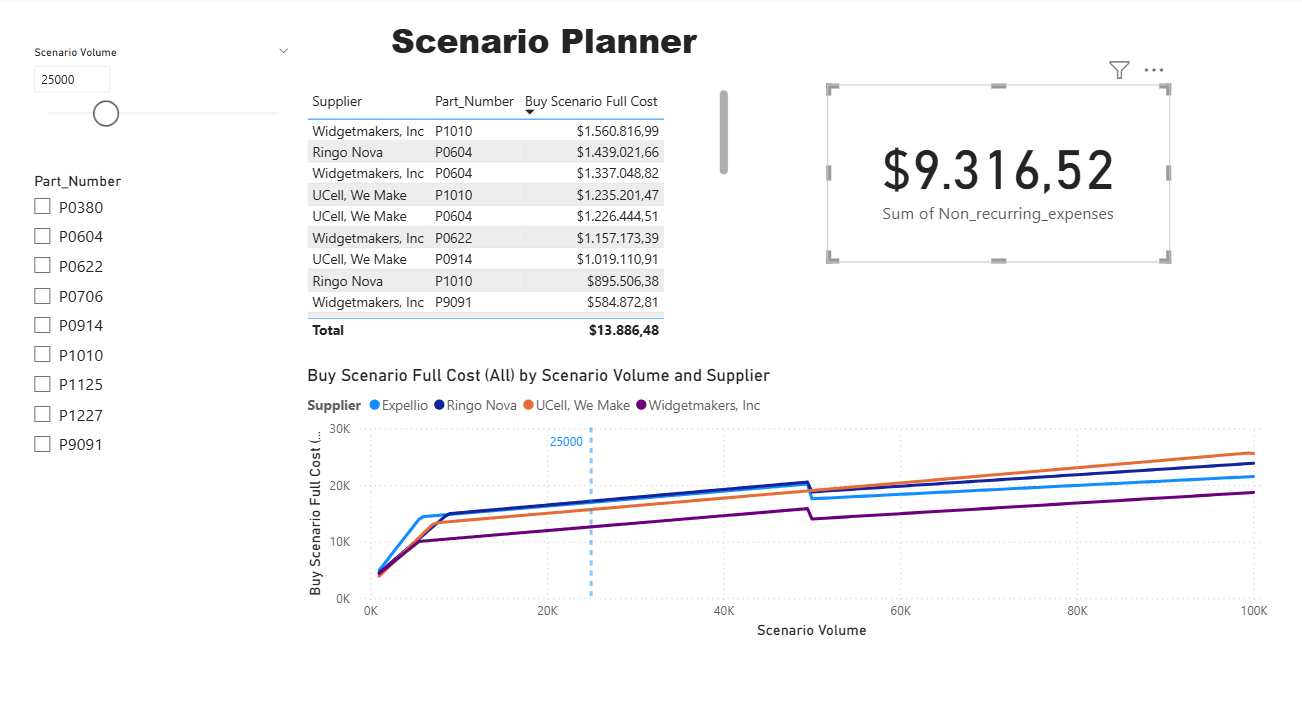

The page's visual inventory and layout, read from the dashboard file:
{"tool":"powerbi","page":{"name":"Scenario Analysis (Suppliers)","canvas":[1280,720],"ordinal":1},"visuals":[{"type":"slicer","fields":{"Values":["Scenario Volume.Scenario Volume"]},"box":[24.2,42.7,274.5,123.7],"z":0},{"type":"tableEx","fields":{"Values":["Quotes.Supplier","Quotes.Part_Number","Scenario Volume.Scenario Full Cost"]},"box":[298.7,166.4,375.5,173.5],"z":1000},{"type":"textbox","box":[381.2,14.2,339.9,56.9],"z":2000},{"type":"slicer","fields":{"Values":["Quotes.Part_Number"]},"box":[24.2,166.4,274.5,308.6],"z":3000},{"type":"card","fields":{"Values":["Sum(Quotes.Non_recurring_expenses)"]},"box":[674.1,147.9,334.2,173.5],"z":4000},{"type":"lineChart","fields":{"Category":["Scenario Volumes (All).Scenario Volume"],"Series":["Quotes.Supplier"],"Y":["Scenario Volumes (All).Scenario Full Cost (All)"]},"box":[299.1,359.5,949.8,272.4],"z":5000}]}

Visuals, with their boxes in screenshot pixels (x1, y1, x2, y2), scaled from the page's 1280x720 canvas onto the 1302x728 screenshot:
slicer - Scenario Volume.Scenario Volume: [25,43,304,168]
tableEx - Quotes.Supplier x Quotes.Part_Number: [304,168,686,344]
textbox: [388,14,733,72]
slicer - Quotes.Part_Number: [25,168,304,480]
card - Sum(Quotes.Non_recurring_expenses): [686,150,1026,325]
lineChart - Scenario Volumes (All).Scenario Volume x Quotes.Supplier: [304,363,1270,639]
